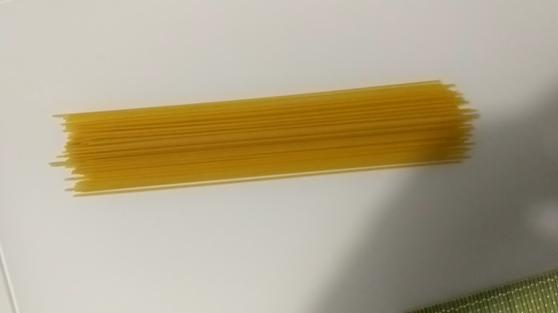spaghetti: (48, 67, 478, 202)
